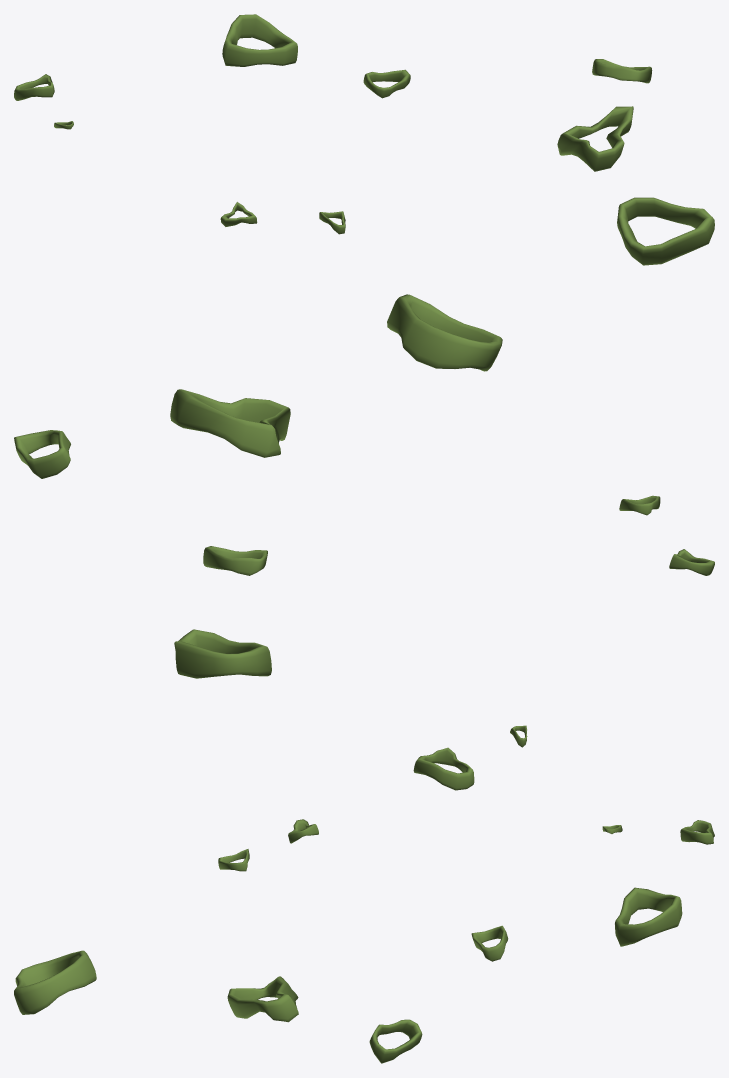
The model's file is peppers.glb.
The picture shows the model from 3 angles, top to bottom: view 1: azimuth 30°, elevation 25°; view 2: azimuth 150°, elevation 25°; view 3: azimuth 270°, elevation 25°; orthographic projection. The views are drawn at different scales.
Parts seen in each view (by area): view 1: polySurface174, polySurface180, polySurface182, polySurface178, polySurface176, polySurface175, polySurface179; view 2: polySurface174, polySurface182, polySurface180, polySurface178, polySurface175, polySurface176; view 3: polySurface174, polySurface180, polySurface182, polySurface178, polySurface176, polySurface175, polySurface181, polySurface179.
Boxes of the visible parts, x1=… form: polySurface174: x1=617, y1=197, x2=714, y2=265; polySurface180: x1=222, y1=14, x2=297, y2=66; polySurface182: x1=557, y1=106, x2=633, y2=171; polySurface178: x1=592, y1=59, x2=652, y2=83; polySurface176: x1=363, y1=69, x2=410, y2=98; polySurface175: x1=14, y1=74, x2=54, y2=100; polySurface179: x1=220, y1=202, x2=257, y2=226; polySurface174: x1=387, y1=294, x2=502, y2=371; polySurface182: x1=170, y1=389, x2=290, y2=457; polySurface180: x1=174, y1=629, x2=271, y2=678; polySurface178: x1=14, y1=430, x2=70, y2=478; polySurface175: x1=413, y1=747, x2=474, y2=790; polySurface176: x1=203, y1=546, x2=267, y2=575; polySurface174: x1=14, y1=950, x2=96, y2=1014; polySurface180: x1=615, y1=887, x2=682, y2=946; polySurface182: x1=227, y1=976, x2=298, y2=1022; polySurface178: x1=369, y1=1019, x2=422, y2=1063; polySurface176: x1=471, y1=925, x2=508, y2=961; polySurface175: x1=680, y1=820, x2=714, y2=844; polySurface181: x1=218, y1=849, x2=249, y2=871; polySurface179: x1=288, y1=819, x2=318, y2=843.
Size of the model in its own units: 0.0482 by 0.00457 by 0.0576.
